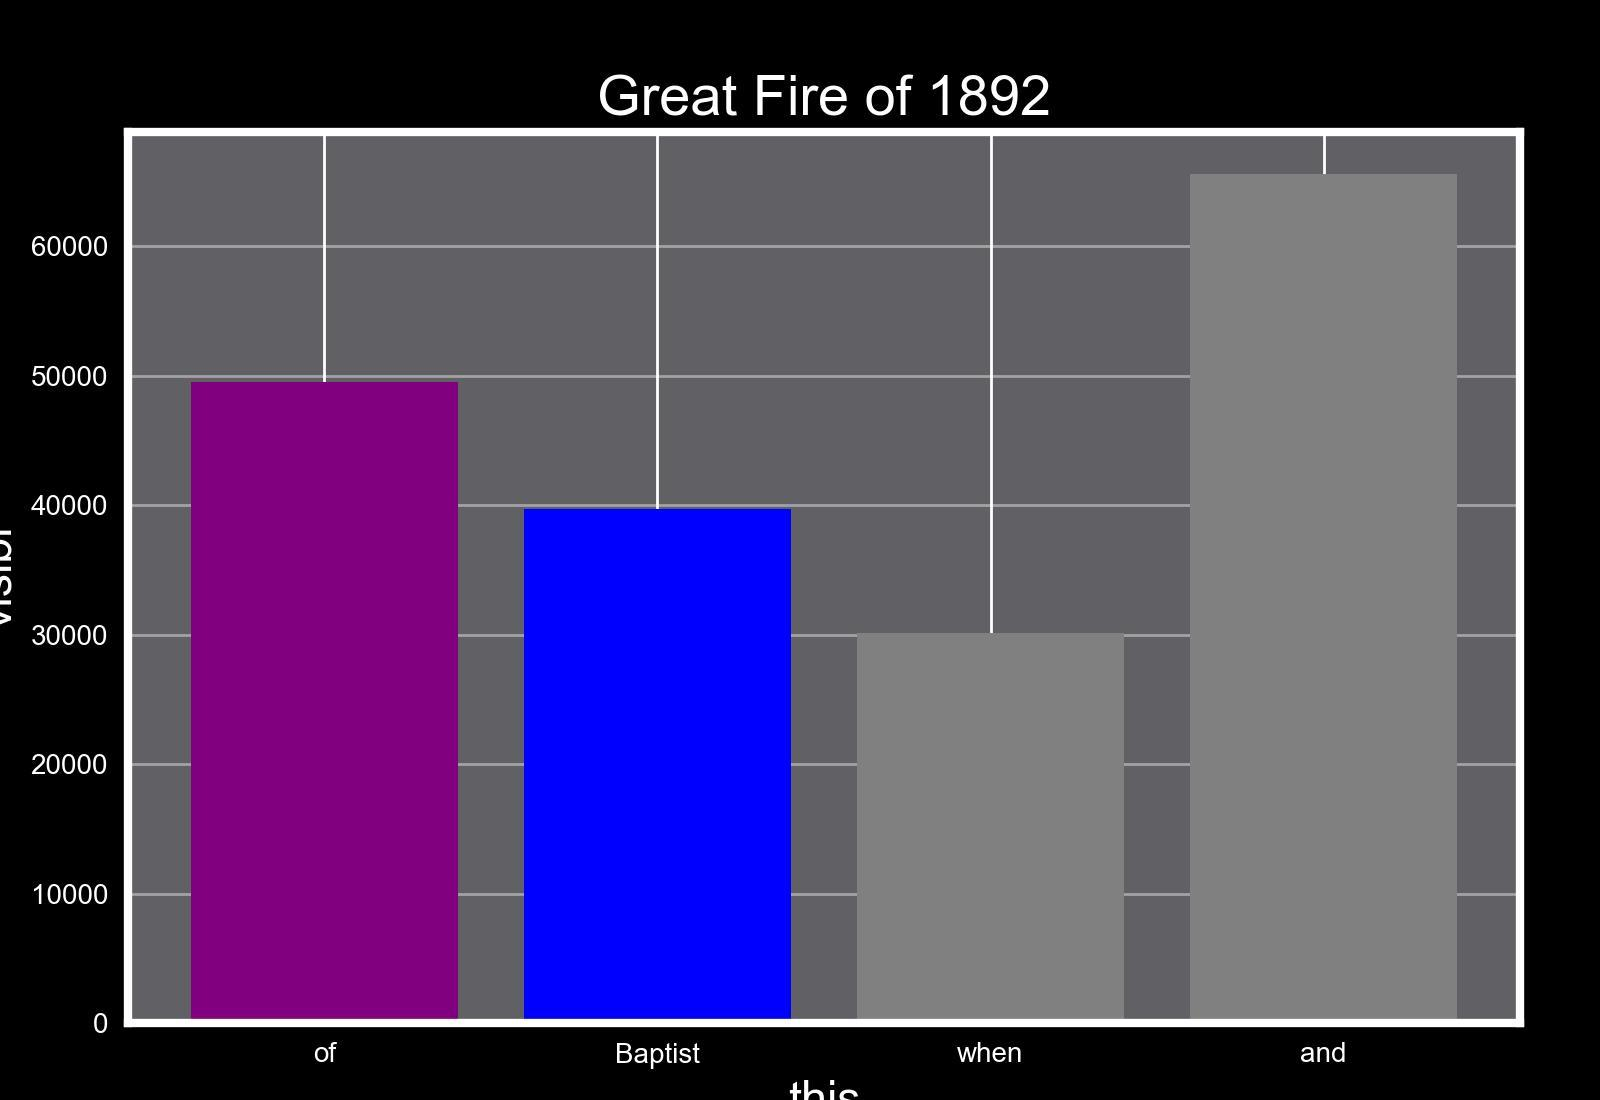axis: (0, 236, 108, 1039)
rectangle: (1190, 174, 1457, 1023), (192, 382, 457, 1023), (524, 509, 790, 1023), (857, 633, 1123, 1023)
